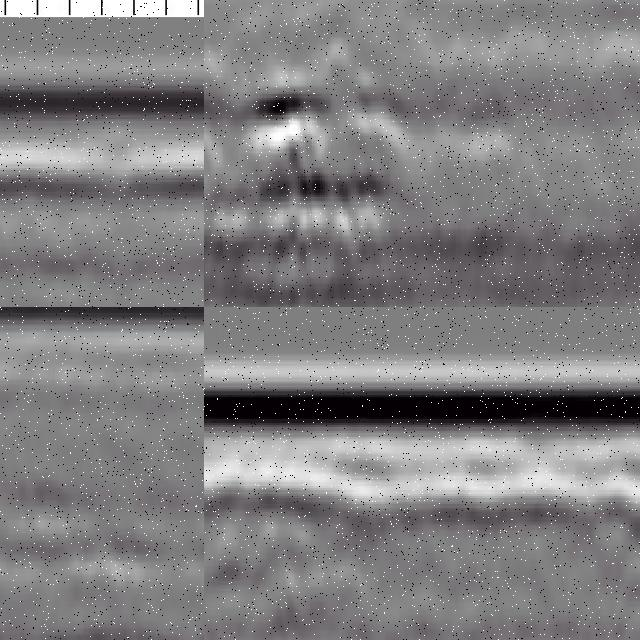crack: (205, 479, 219, 640)
loose: (205, 47, 397, 289), (205, 485, 361, 637)
